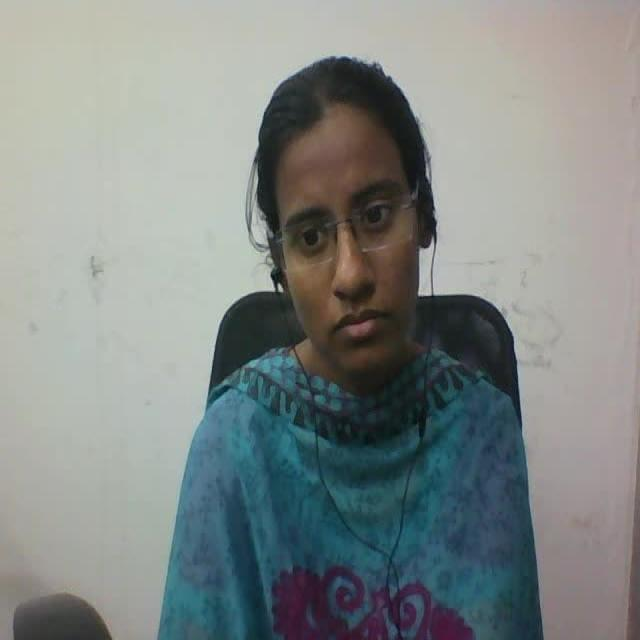Engaged: (226, 39, 451, 370)
